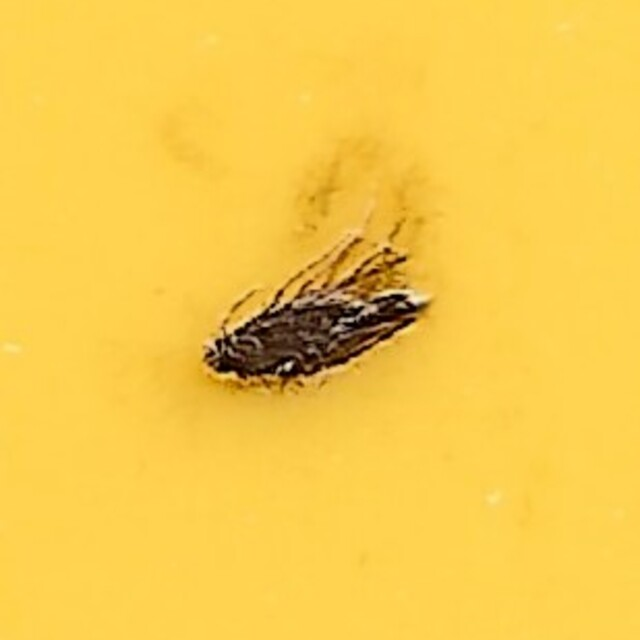Trichoptera: (207, 234, 433, 406)
